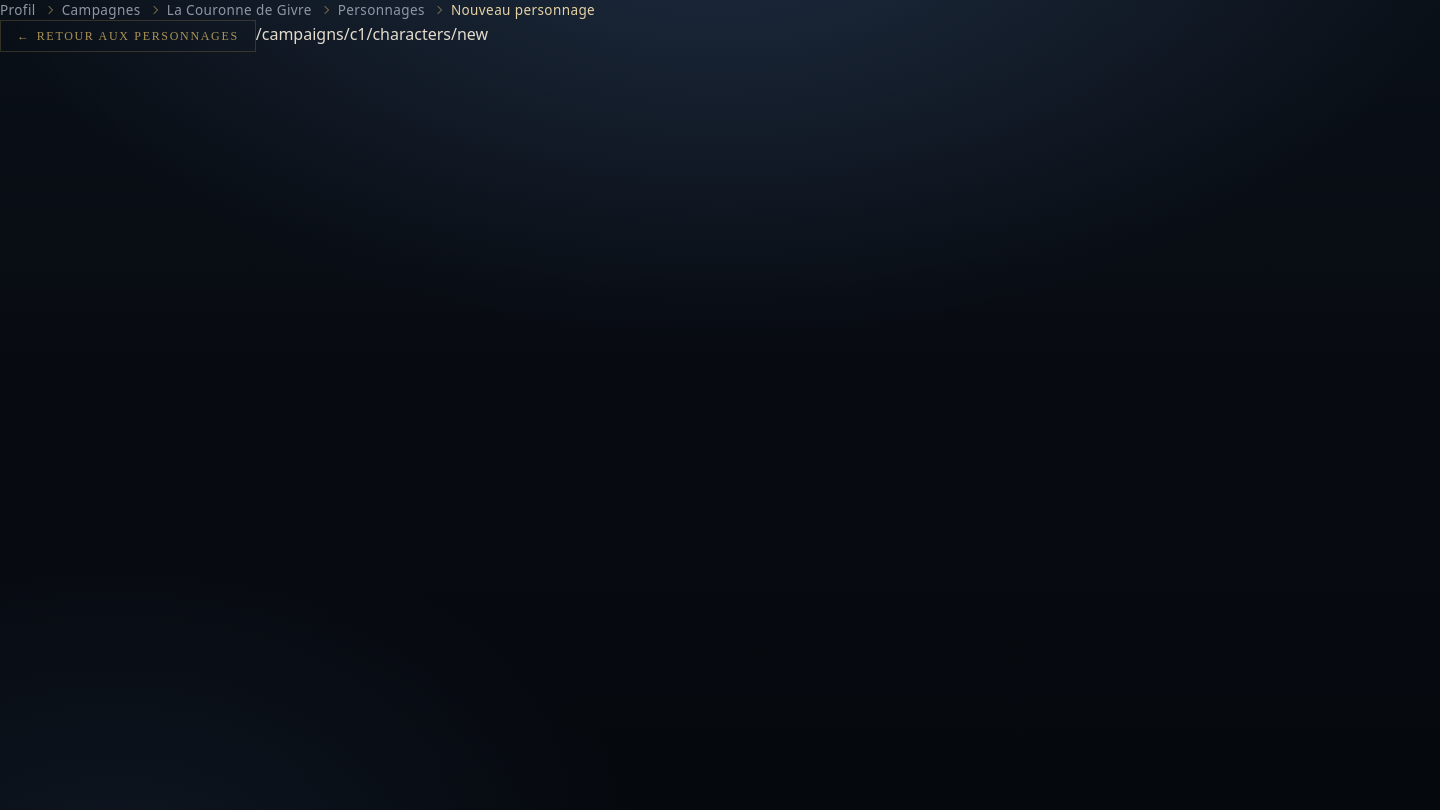
Test: LeaveBuilderContainer › une étape du fil demande confirmation au lieu de partir
Click the link "Campagnes".
click(101, 10)  # box [62, 0, 141, 20]
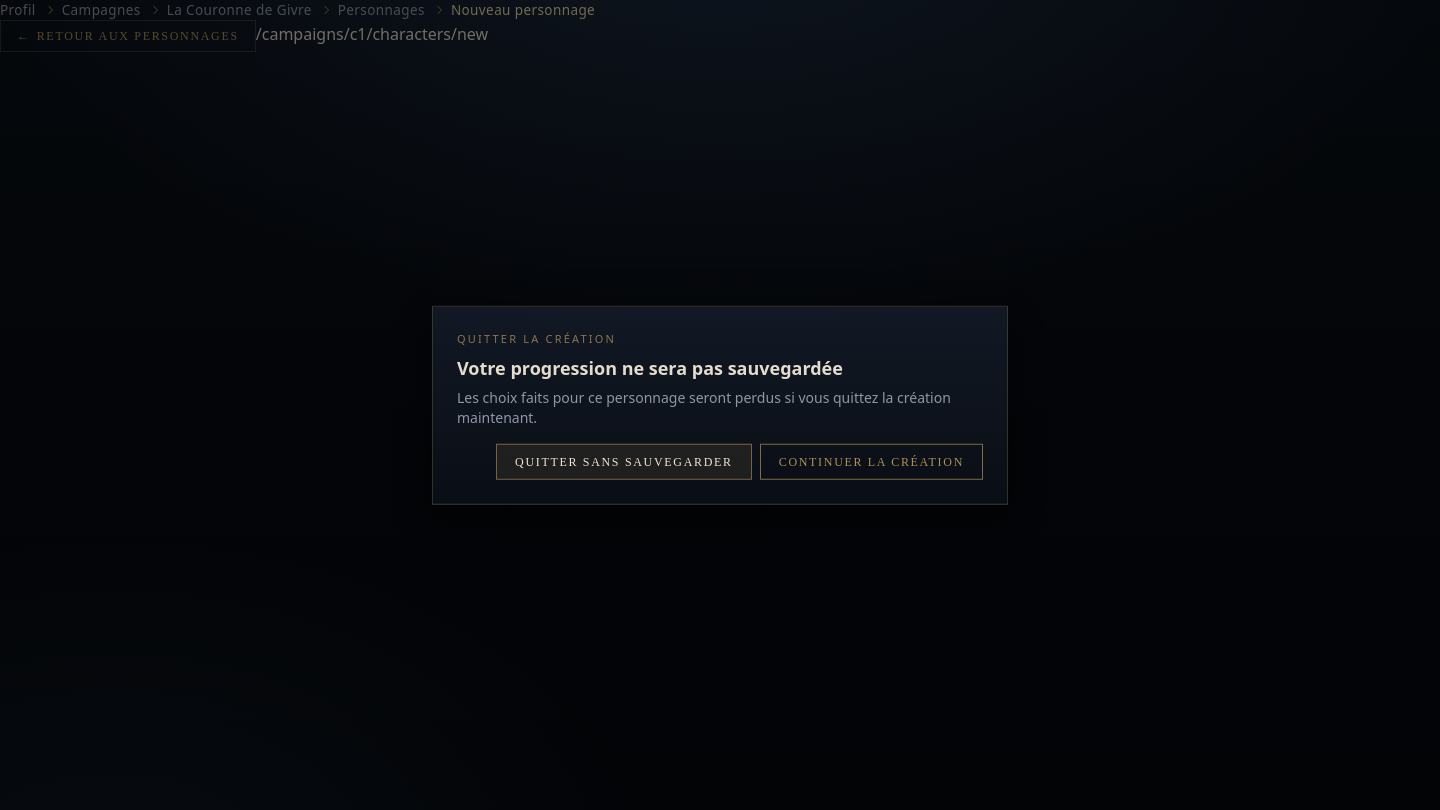
Expected: the text named "adresse" reads "/campaigns/c1/characters/new", [256, 23, 488, 45]
Result: the dialog is shown at [432, 306, 1008, 504]
